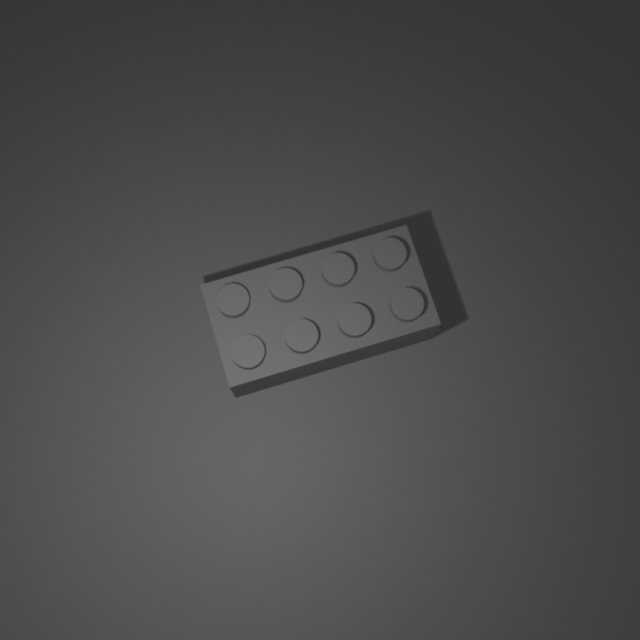lego_2x4: (199, 221, 443, 398)
